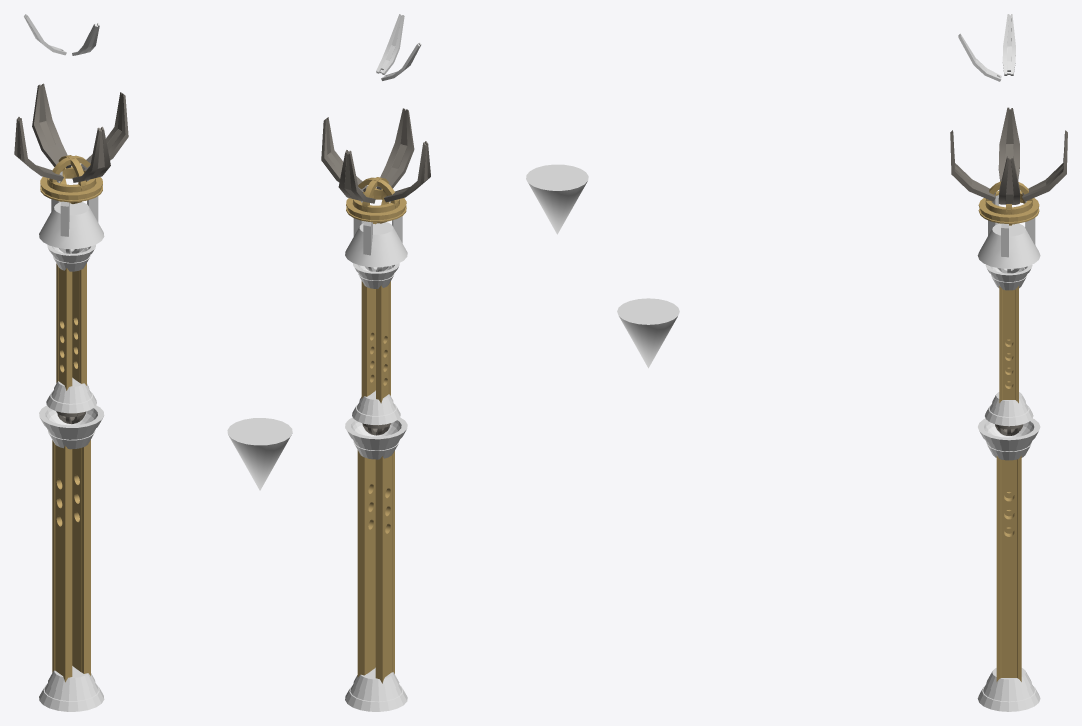
The model's file is Forearm.fbx.
3 renders of one model, left to right at view 1: azimuth 30°, elevation 25°; view 2: azimuth 150°, elevation 25°; view 3: azimuth 270°, elevation 25°, orthographic. The views are drawn at different scales.
Visible parts, largest first — view 1: pCube3, pCube7, pCone2, Hand, pCone7, pCone4, polySurface7, pCone5, pCylinder20, polySurface5, polySurface8, pCylinder14 (+2 smaller); view 2: pCube3, pCube7, pCone2, Hand, pCone7, pCone4, polySurface8, pCone5, pCylinder20, polySurface5, polySurface7, pCylinder14 (+3 smaller); view 3: pCube3, pCone2, Hand, pCube7, pCone7, pCone4, pCone5, polySurface6, polySurface5, pCylinder14, polySurface8, polySurface7.
Part boxes in pixels (left/top/right/bottom): pCube3: left=52, top=440, right=90, bottom=682; pCube7: left=56, top=263, right=86, bottom=390; pCone2: left=227, top=418, right=292, bottom=490; Hand: left=39, top=171, right=104, bottom=248; pCone7: left=39, top=666, right=104, bottom=711; pCone4: left=39, top=405, right=104, bottom=449; polySurface7: left=32, top=83, right=71, bottom=168; pCone5: left=46, top=377, right=96, bottom=413; pCylinder20: left=47, top=155, right=95, bottom=203; polySurface5: left=81, top=92, right=128, bottom=170; polySurface8: left=72, top=126, right=110, bottom=182; pCylinder14: left=40, top=174, right=102, bottom=202; pCube3: left=357, top=450, right=394, bottom=683; pCube7: left=361, top=281, right=390, bottom=403; pCone2: left=526, top=164, right=588, bottom=234; Hand: left=345, top=201, right=407, bottom=267; pCone7: left=345, top=667, right=407, bottom=711; pCone4: left=345, top=417, right=407, bottom=459; polySurface8: left=376, top=108, right=414, bottom=189; pCone5: left=352, top=390, right=400, bottom=425; pCylinder20: left=353, top=177, right=399, bottom=224; polySurface5: left=321, top=117, right=367, bottom=192; polySurface7: left=338, top=150, right=375, bottom=203; pCylinder14: left=346, top=195, right=406, bottom=222; pCube3: left=996, top=455, right=1021, bottom=681; pCone2: left=617, top=298, right=679, bottom=368; Hand: left=977, top=195, right=1040, bottom=268; pCube7: left=999, top=286, right=1018, bottom=403; pCone7: left=977, top=668, right=1040, bottom=711; pCone4: left=978, top=418, right=1040, bottom=460; pCone5: left=985, top=392, right=1033, bottom=426; polySurface6: left=998, top=107, right=1019, bottom=181; polySurface5: left=998, top=155, right=1019, bottom=204; pCylinder14: left=978, top=198, right=1039, bottom=223; polySurface8: left=950, top=130, right=995, bottom=201; polySurface7: left=1022, top=130, right=1067, bottom=201.
Size of the model in its own units: 4.6 by 28.78 by 17.71.
